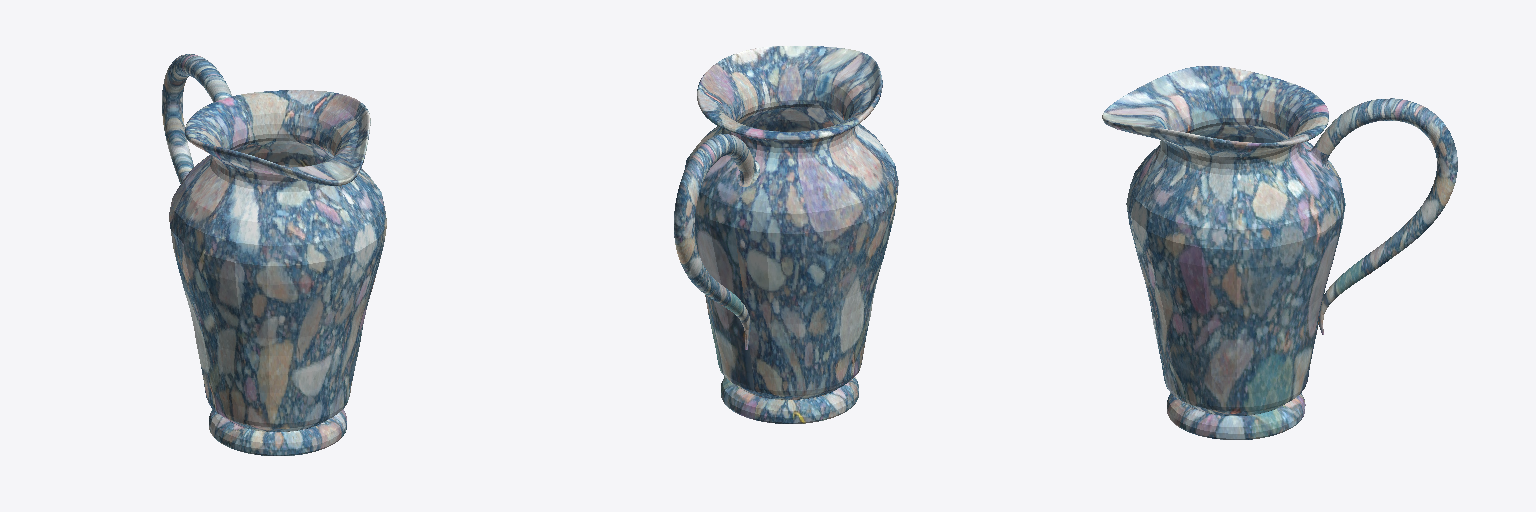
3 views of the same model, side by side, from view 1: azimuth 30°, elevation 25°; view 2: azimuth 150°, elevation 25°; view 3: azimuth 270°, elevation 25° (orthographic).
Parts seen in each view (by area): view 1: Pitcher; view 2: Pitcher; view 3: Pitcher.
Part boxes in pixels (x1,y1,x2,y2): Pitcher: (162, 54, 386, 455); Pitcher: (674, 46, 898, 423); Pitcher: (1102, 66, 1457, 439).
Size of the model in its own units: 12.53 by 19.73 by 20.33.
1 materials, 1 textured.